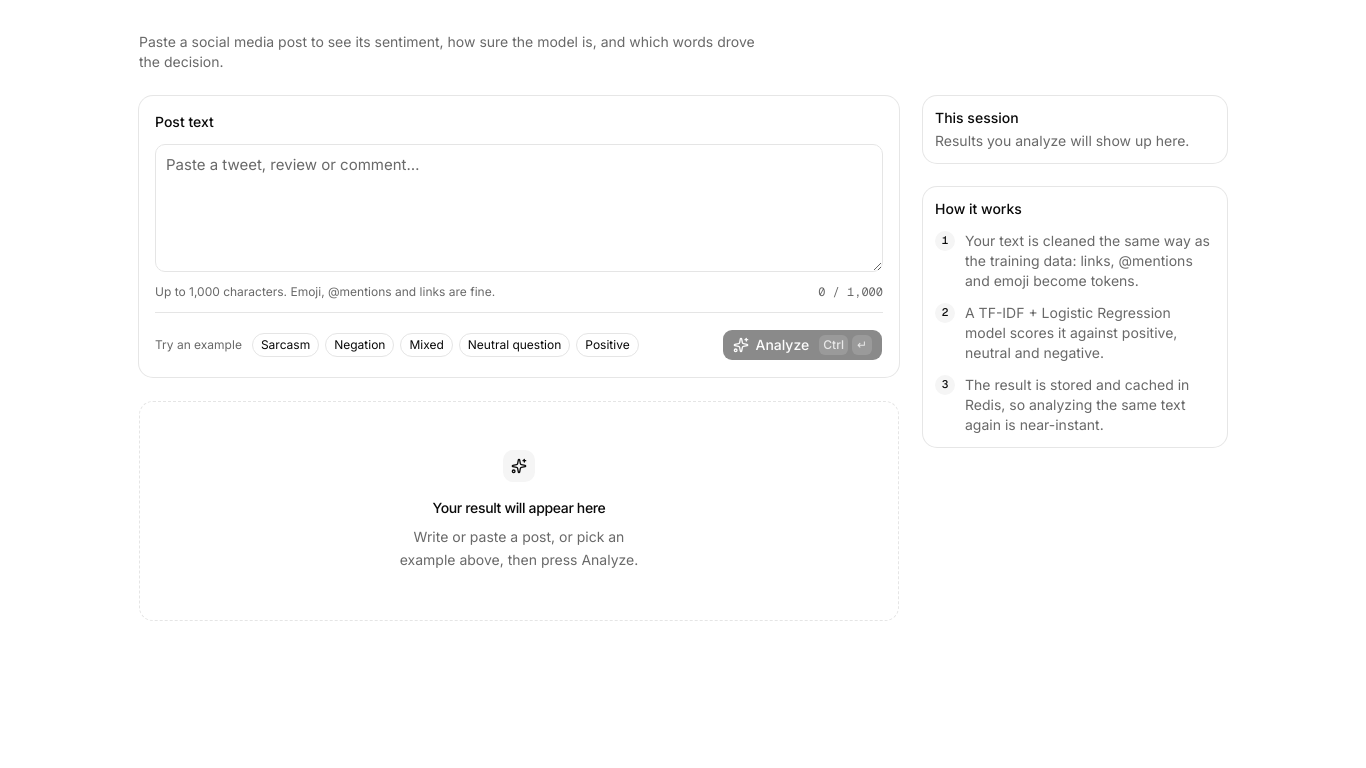
Test: Analyze form › sends the trimmed text to the API and shows the result
Type "   Great flight!  " into the text box labelled "Post text" at (519, 208), box [155,144,883,272]
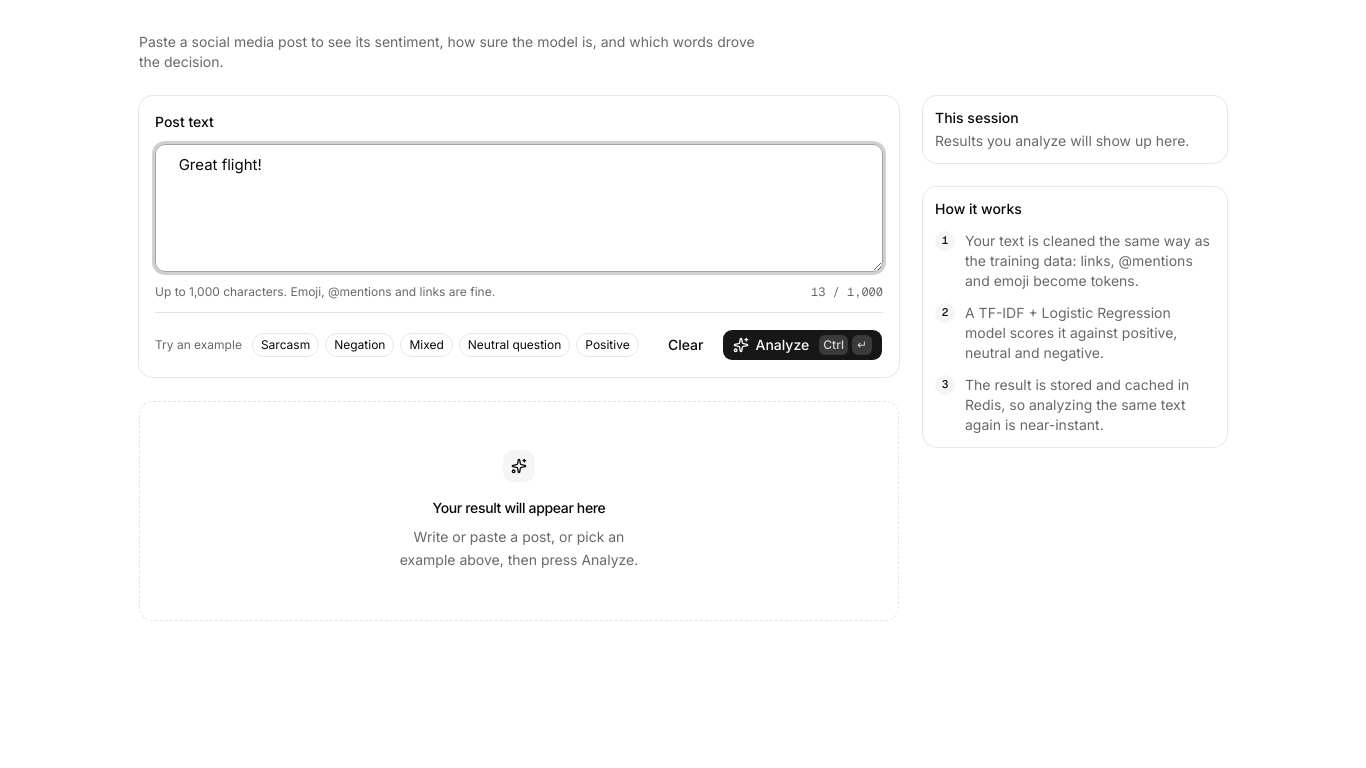
Click the button "Analyze Ctrl ↵" at (803, 345), box [722,329,883,361]
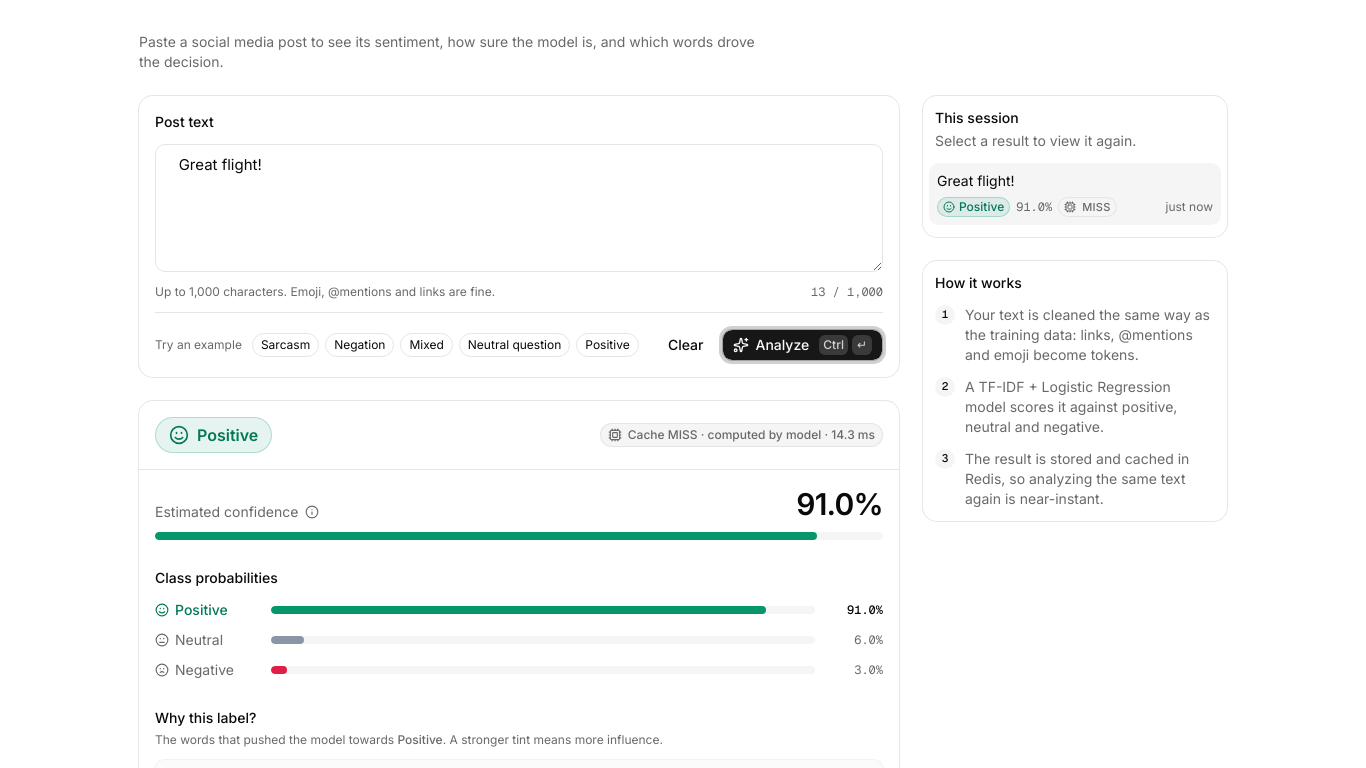
Now the text "Cache MISS · computed by model · 14.3 ms" is shown, box [600,423,883,447]
